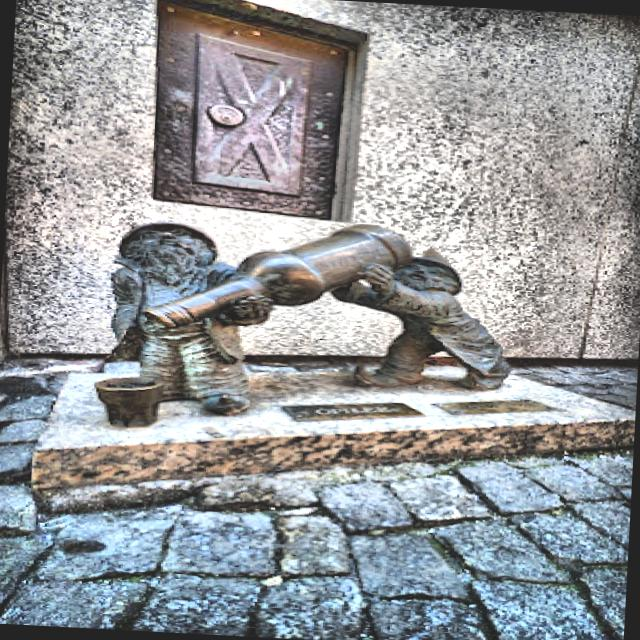Ogorzalek_i_Opilek: (111, 225, 509, 415)
